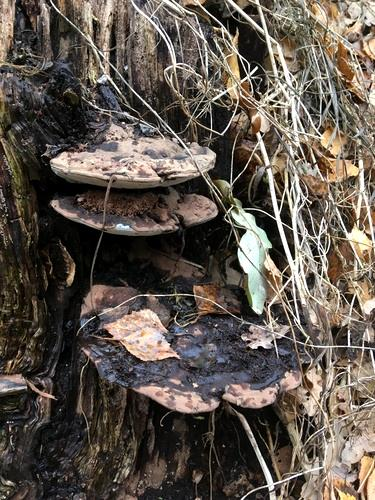Ganoderma - Fruit Body: (80, 291, 323, 409), (49, 122, 216, 186), (49, 189, 217, 241)
